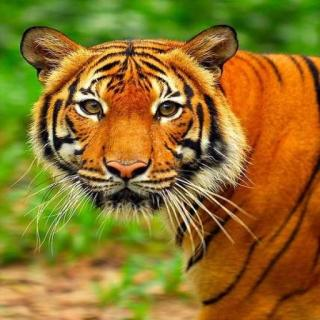Tiger: (17, 20, 320, 320)
